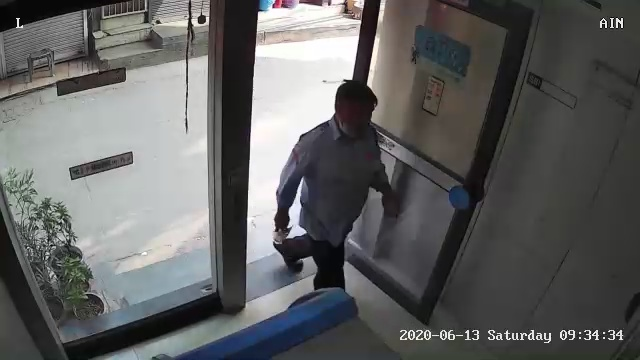open: (195, 4, 536, 337)
